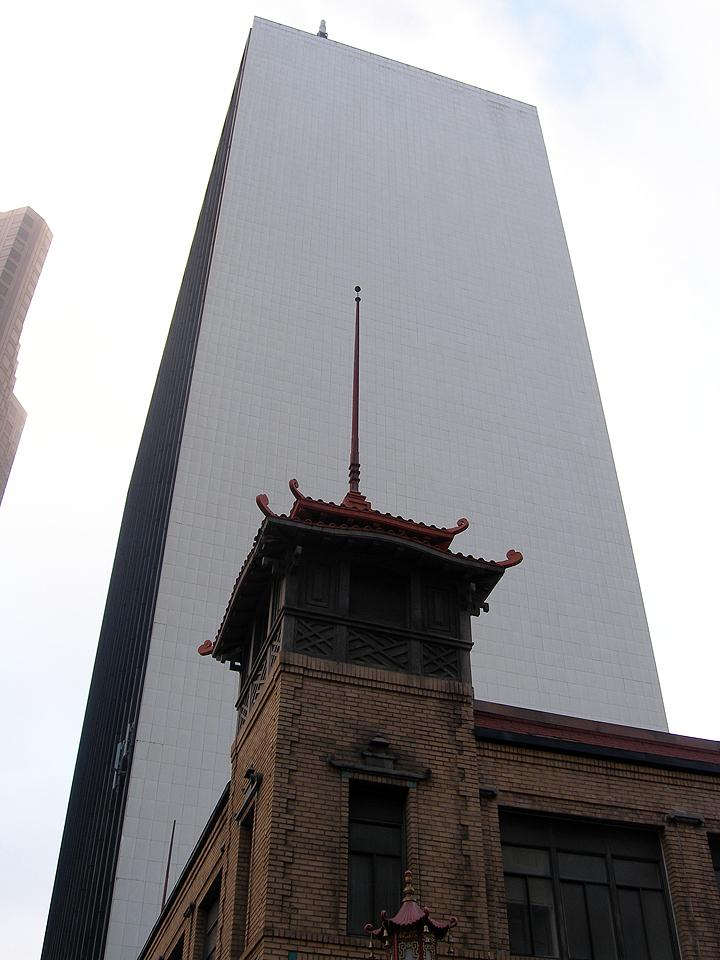building: (45, 0, 671, 960), (135, 288, 720, 960), (0, 205, 53, 525), (140, 303, 144, 304)
